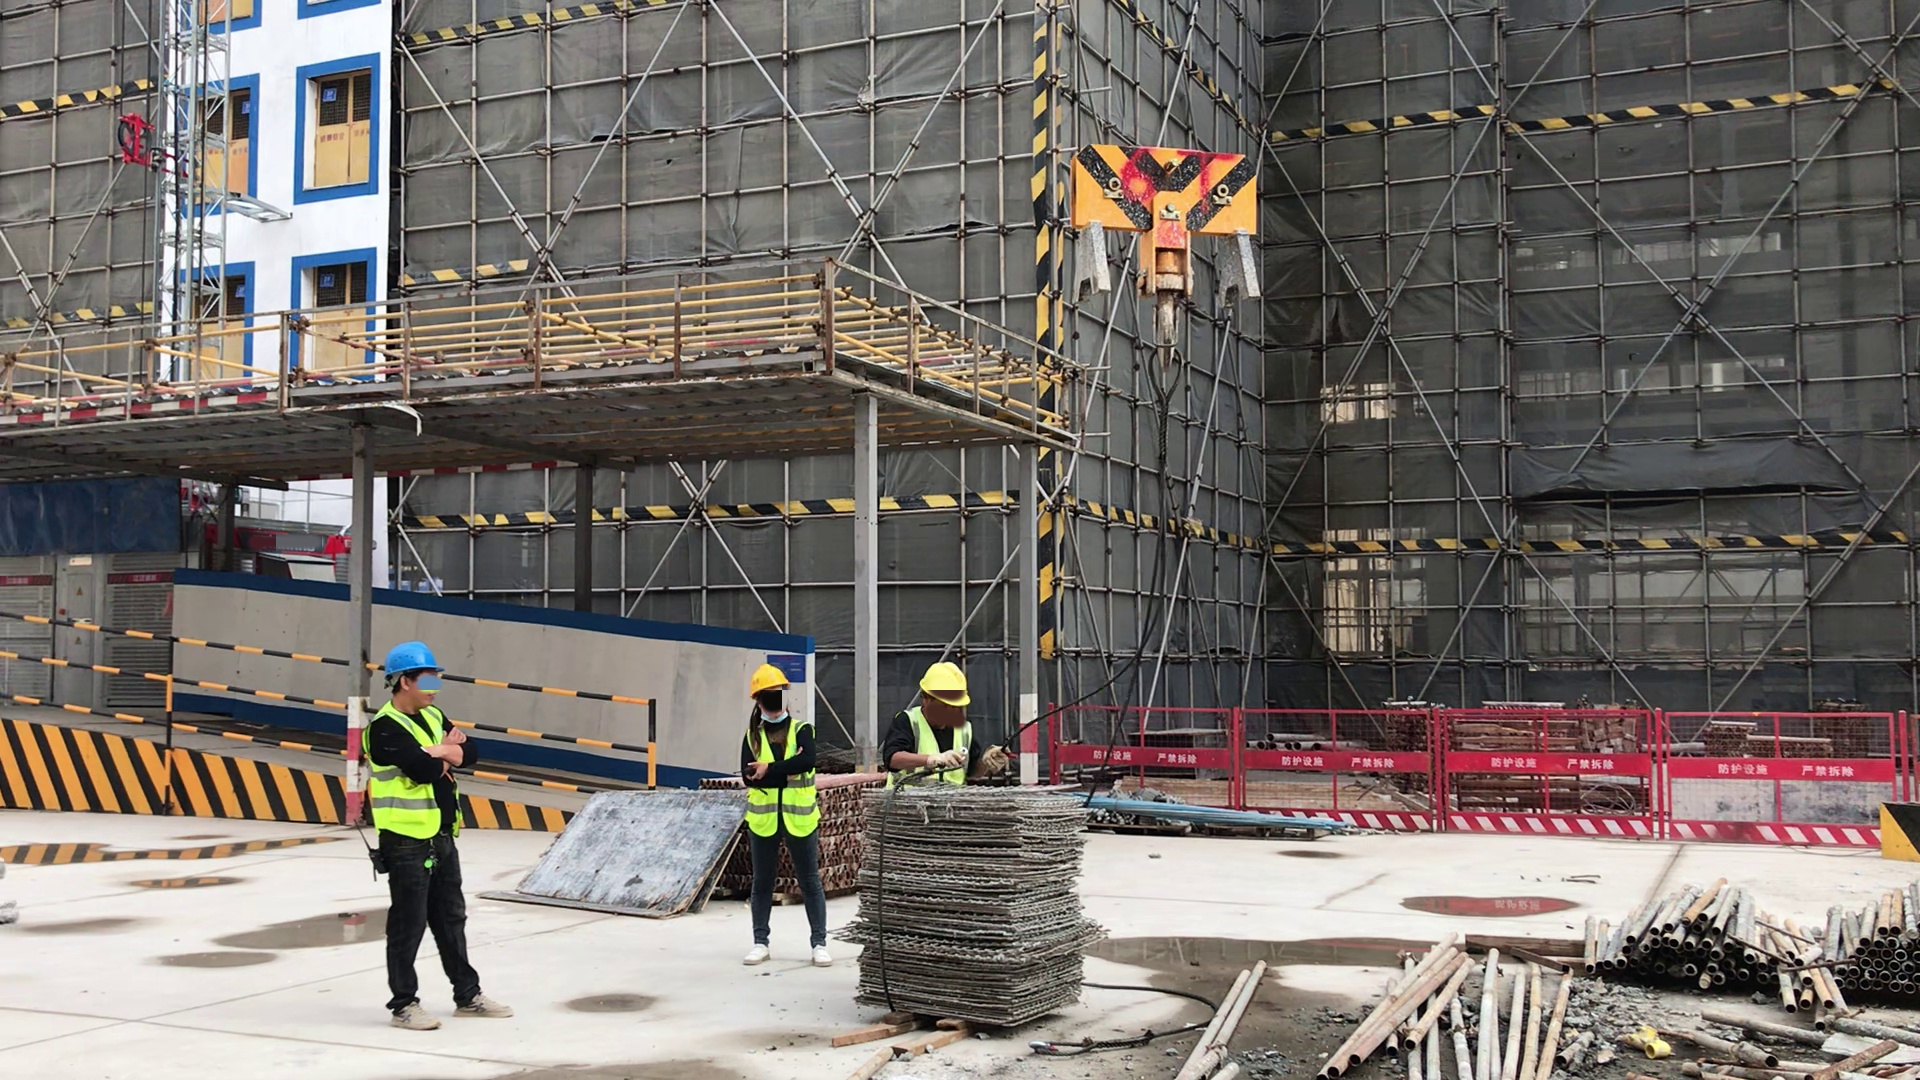fence: (1339, 695, 1873, 858), (18, 611, 341, 767), (1115, 698, 1341, 811), (474, 676, 660, 791)
helmet: (916, 662, 972, 711), (379, 644, 444, 680), (746, 661, 793, 702)
hook: (1062, 137, 1255, 387)
person: (369, 642, 522, 1030), (736, 660, 841, 972), (881, 657, 1017, 779)
scaffold: (1574, 872, 1788, 994), (1788, 880, 1920, 987)
slogan: (129, 574, 163, 586), (3, 574, 32, 585)
vest: (362, 700, 466, 844), (743, 717, 823, 842), (889, 707, 973, 783)
